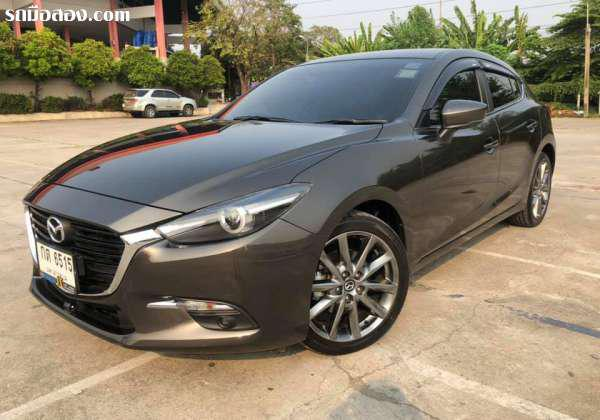sedan: (21, 47, 559, 355)
